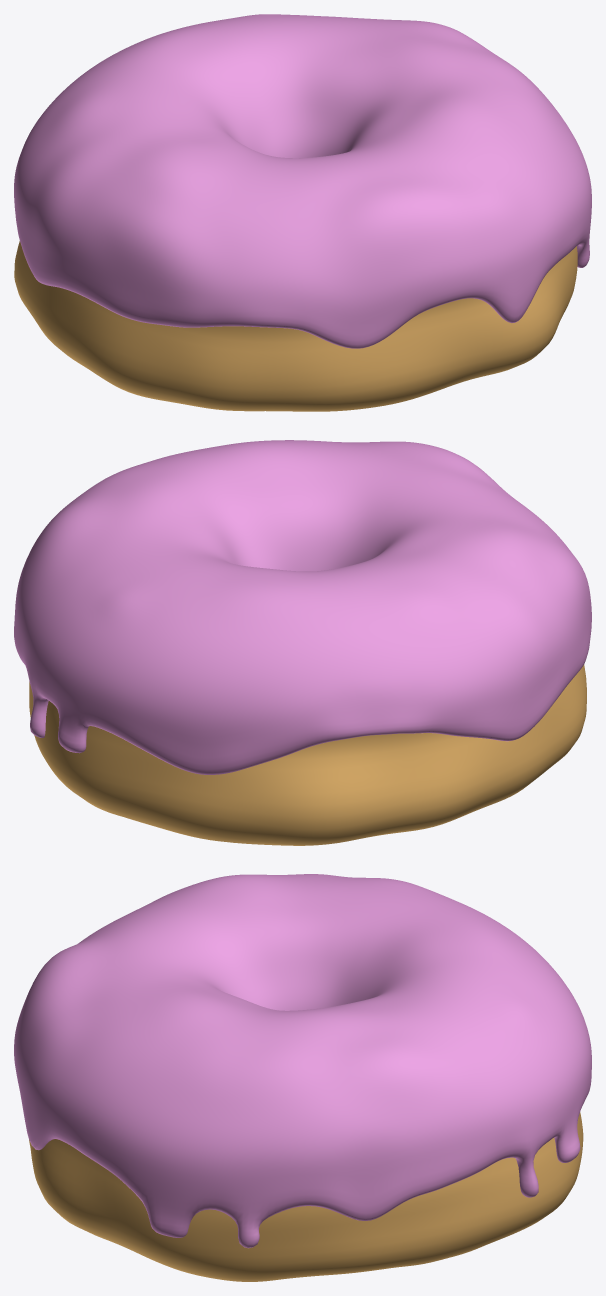
File: Donut.gltf
The picture shows the model from 3 angles, top to bottom: view 1: azimuth 30°, elevation 25°; view 2: azimuth 150°, elevation 25°; view 3: azimuth 270°, elevation 25°; orthographic projection.
Parts seen in each view (by area): view 1: Icing, Donut; view 2: Icing, Donut; view 3: Icing, Donut.
Part boxes in pixels (x1,y1,x2,y2): Icing: [14, 14, 591, 348]; Donut: [14, 241, 577, 411]; Icing: [14, 440, 591, 774]; Donut: [29, 664, 586, 845]; Icing: [14, 874, 591, 1248]; Donut: [29, 1112, 583, 1281].
Size of what is drawn, in the model's own units: 0.1044 by 0.0484 by 0.1043.
